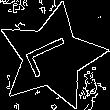L_NE: (22, 32, 81, 82)
